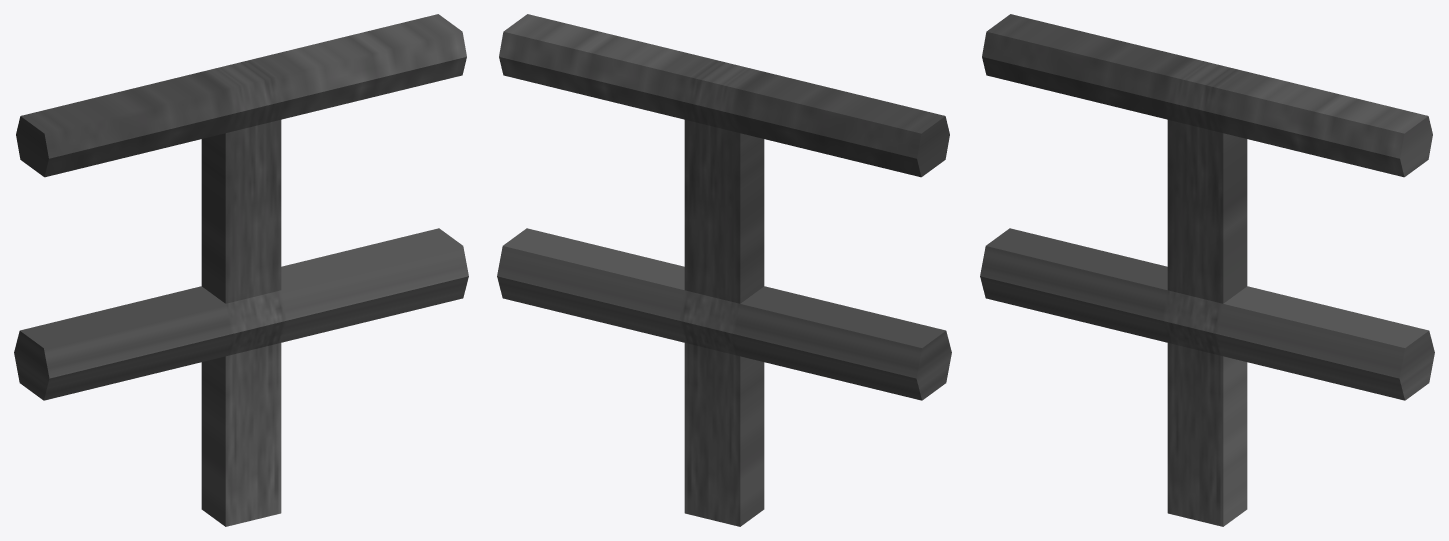
File: armrail.fbx
3 views of the same model, side by side, from view 1: azimuth 30°, elevation 25°; view 2: azimuth 150°, elevation 25°; view 3: azimuth 330°, elevation 25° (orthographic).
Parts seen in each view (by area): view 1: Rail; view 2: Rail; view 3: Rail.
Boxes of the visible parts, <box> form: Rail: <box>14,14,468,526</box>; Rail: <box>497,14,951,526</box>; Rail: <box>980,14,1434,526</box>.
Size of the model in its own units: 201 by 200 by 29.4.
1 material, 1 textured.
